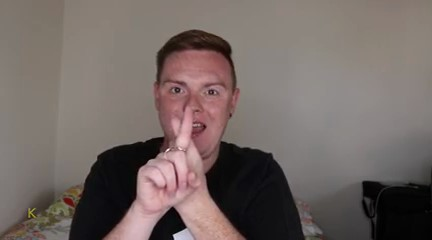K: (131, 104, 210, 215)
